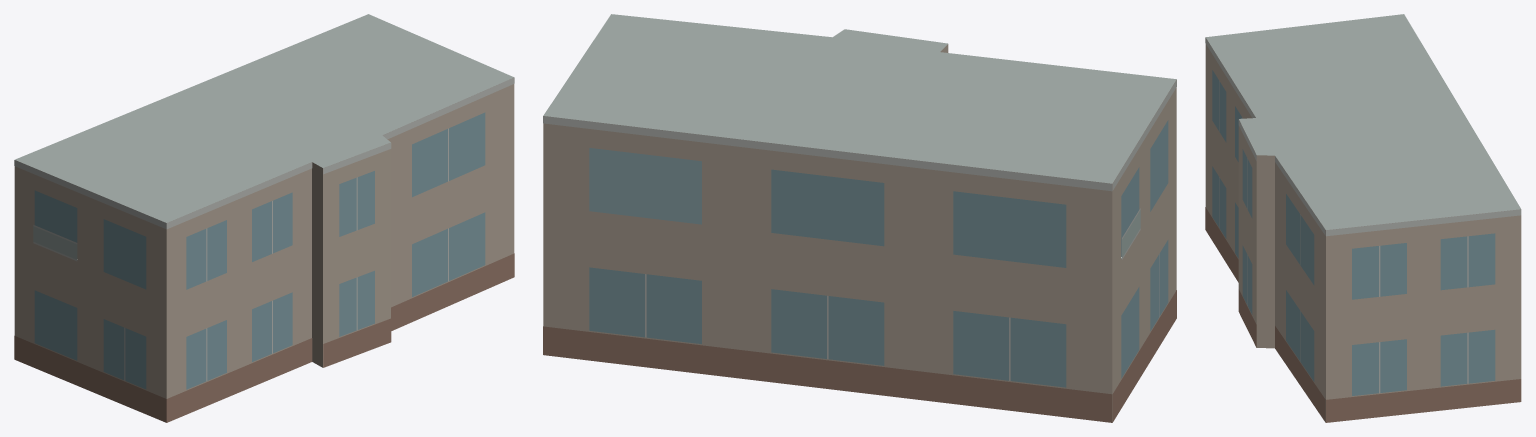
File: survey-upis-32921726.glb
3 views of the same model, side by side, from view 1: azimuth 30°, elevation 25°; view 2: azimuth 150°, elevation 25°; view 3: azimuth 270°, elevation 25° (orthographic). The views are drawn at different scales.
Parts seen in each view (by area): view 1: survey-upis-32921726.tmp; view 2: survey-upis-32921726.tmp; view 3: survey-upis-32921726.tmp.
Boxes of the visible parts, <box> form: survey-upis-32921726.tmp: <box>14,14,514,422</box>; survey-upis-32921726.tmp: <box>543,14,1176,422</box>; survey-upis-32921726.tmp: <box>1205,14,1521,422</box>.
Bounding box in the file's own units: 18.54 × 7.7 × 11.45.
